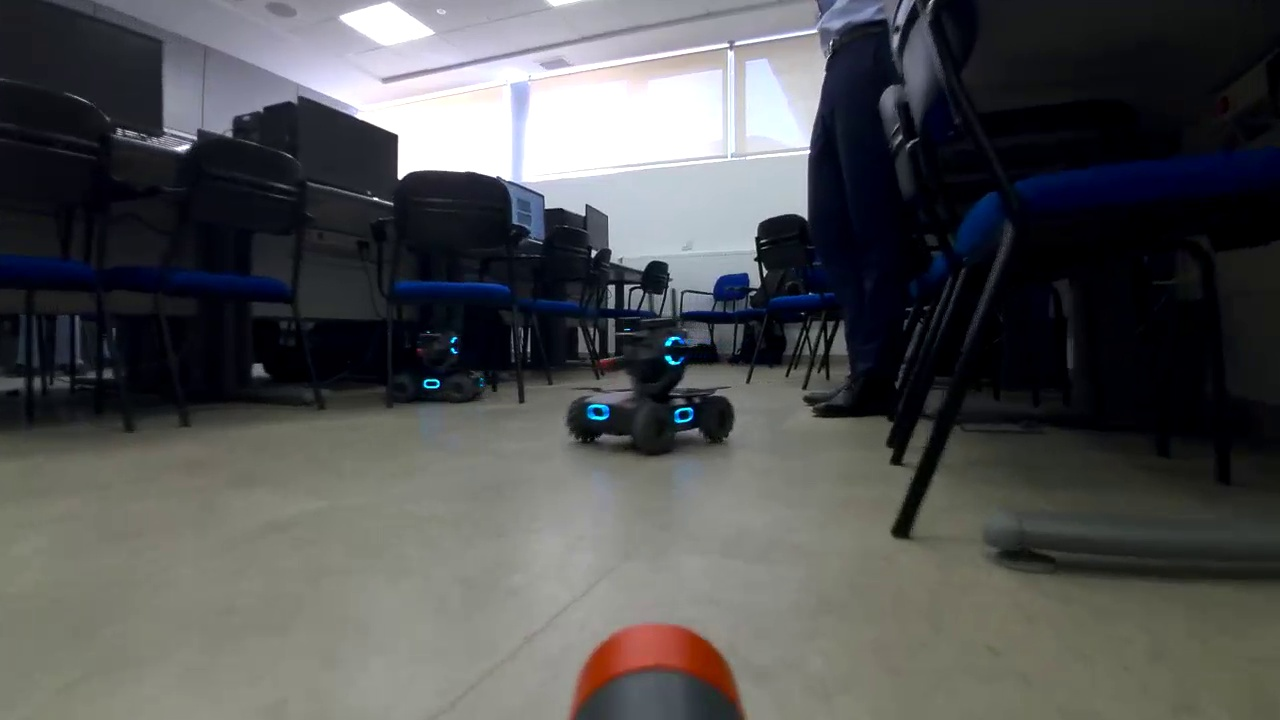robot: (558, 310, 740, 455), (390, 328, 494, 410)
